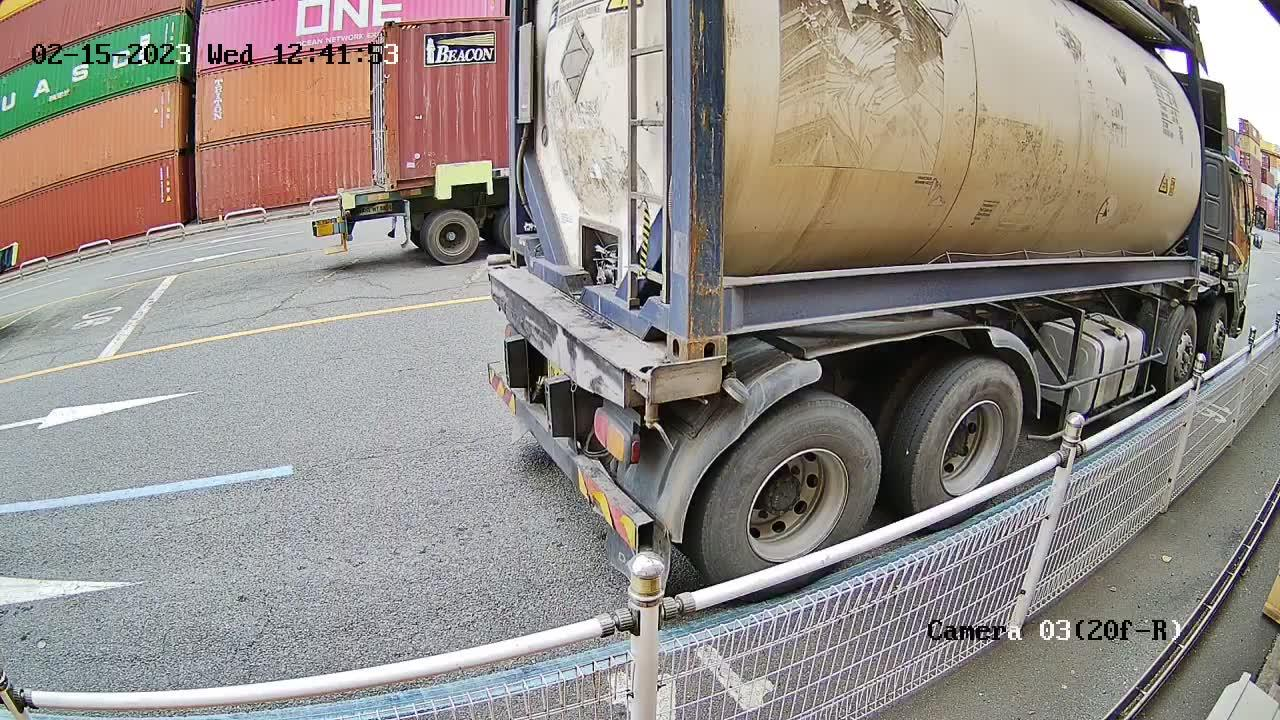Chassis: (489, 266, 683, 413)
Cone: (681, 361, 725, 398)
Hole_L: (688, 281, 781, 361), (509, 218, 542, 272)
Hole_R: (631, 272, 687, 365)
Tire: (699, 398, 883, 578), (910, 362, 1024, 510)
